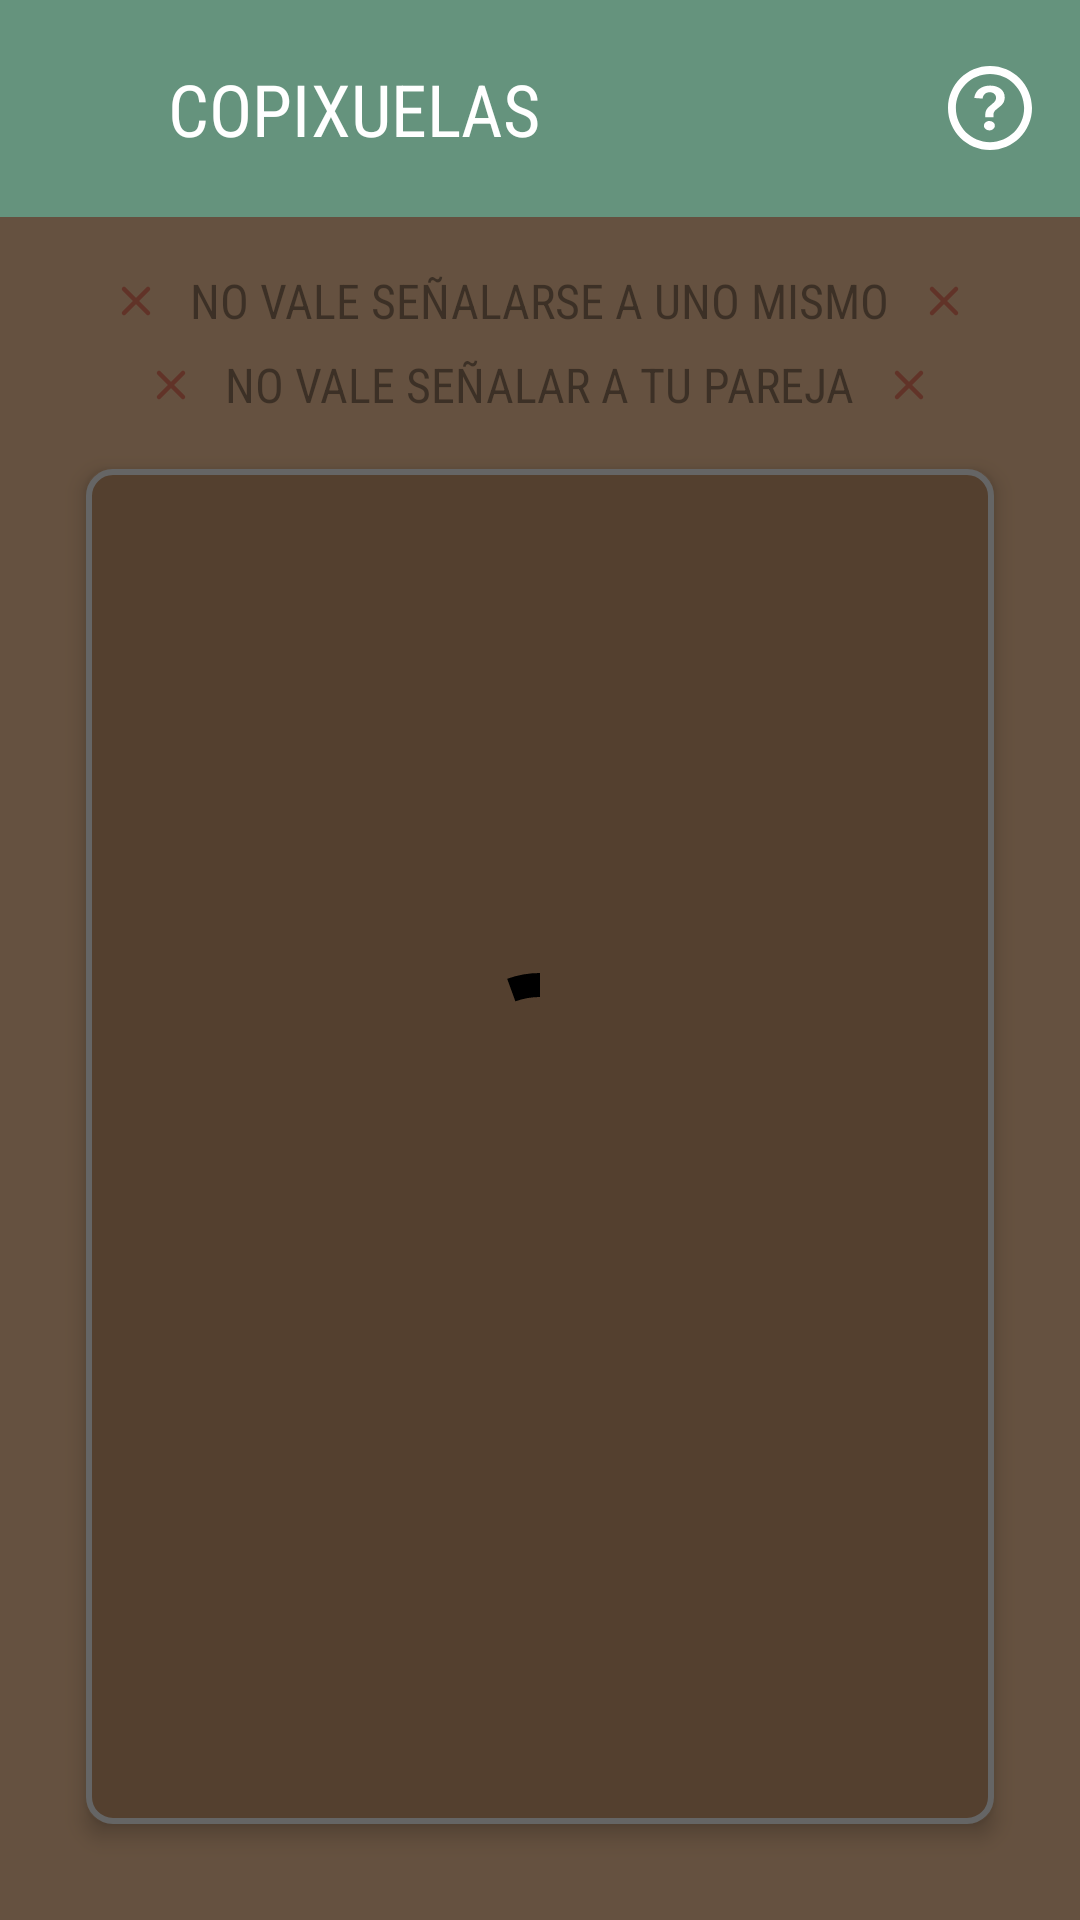

Screen size 1080x1920. Icon name, then its box in pixels as (x1, y1, x2, y2):
cross: (122, 287, 150, 315), (930, 287, 958, 315), (157, 371, 185, 399), (895, 371, 923, 399)
question: (948, 66, 1032, 150)
